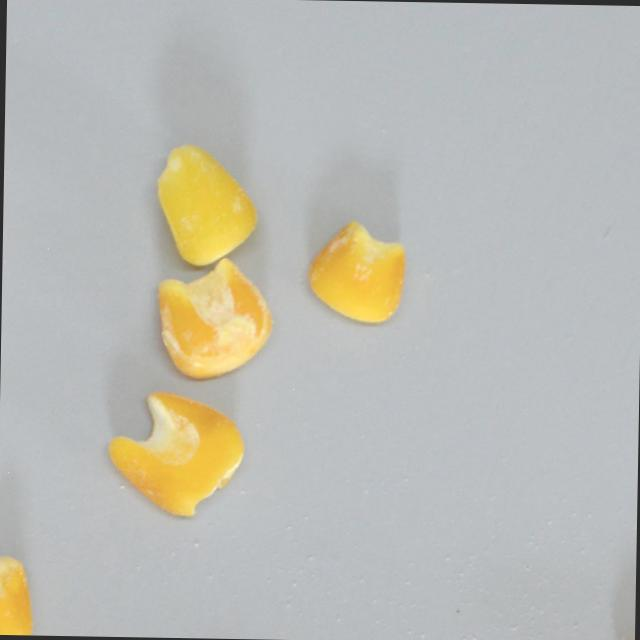no_canjicado: (105, 391, 245, 517), (155, 142, 260, 265), (0, 539, 35, 635)
pelicula: (152, 254, 275, 383), (304, 218, 406, 325)
